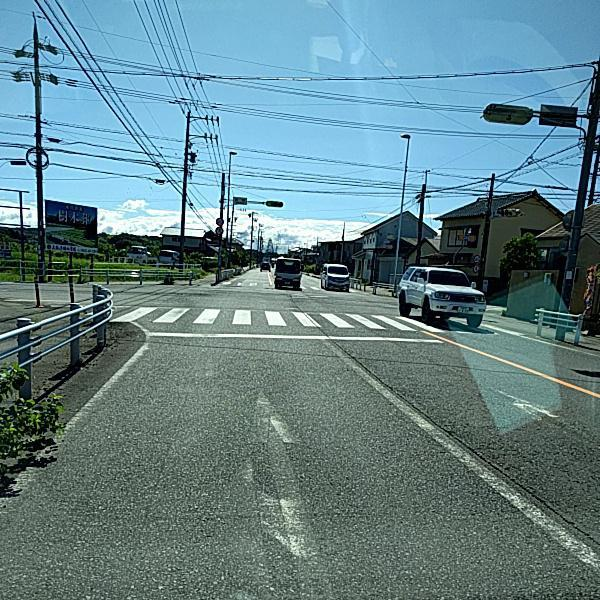D44: (324, 335, 599, 573), (200, 369, 345, 587), (0, 345, 148, 547)
